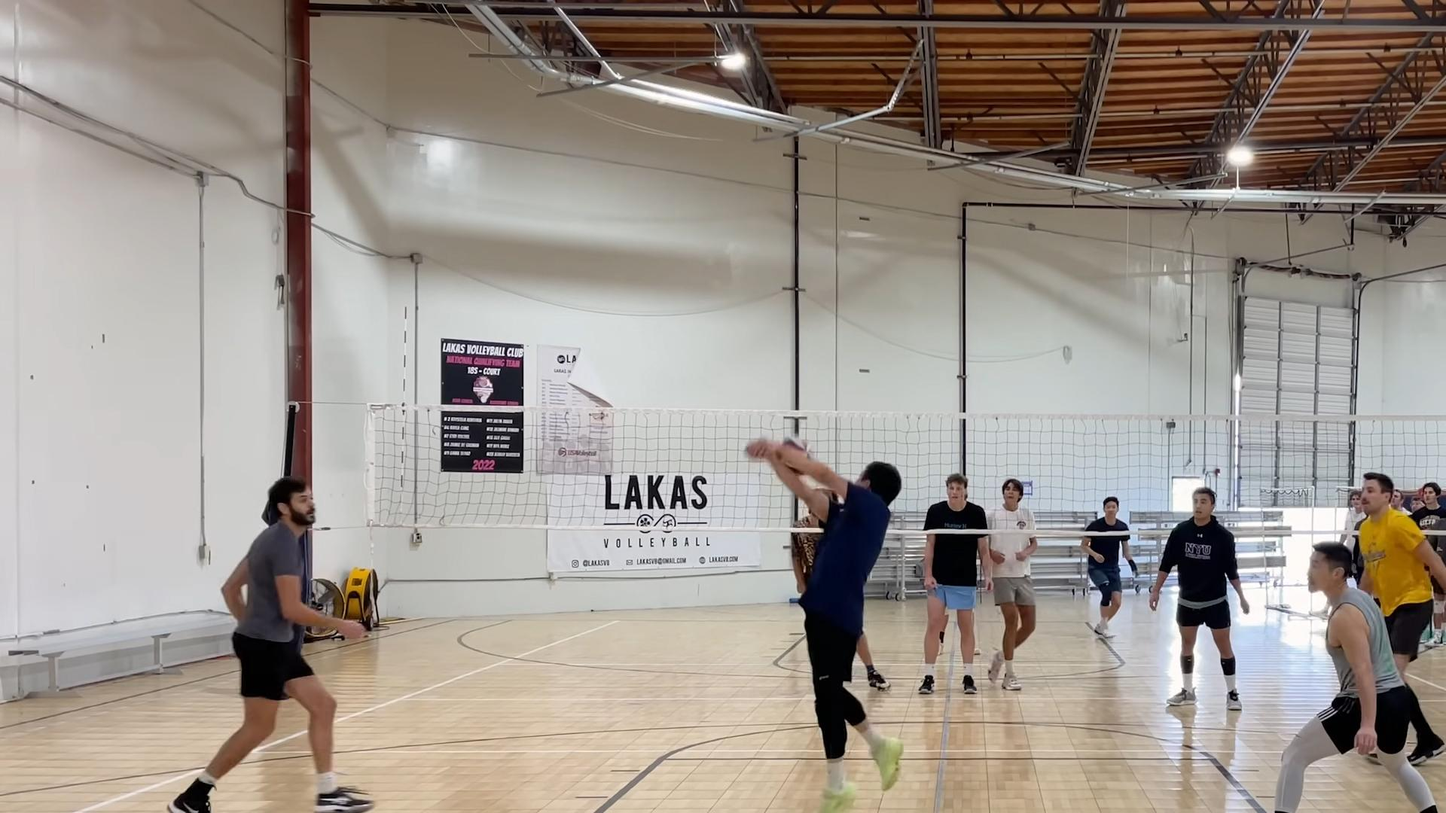Player: (168, 477, 373, 812), (1274, 543, 1435, 812), (1149, 487, 1249, 710), (1359, 472, 1445, 676), (918, 473, 991, 693), (987, 478, 1037, 690), (1081, 496, 1136, 636), (792, 532, 822, 595)
Receive: (727, 425, 924, 799)
ball: (774, 430, 812, 478)
